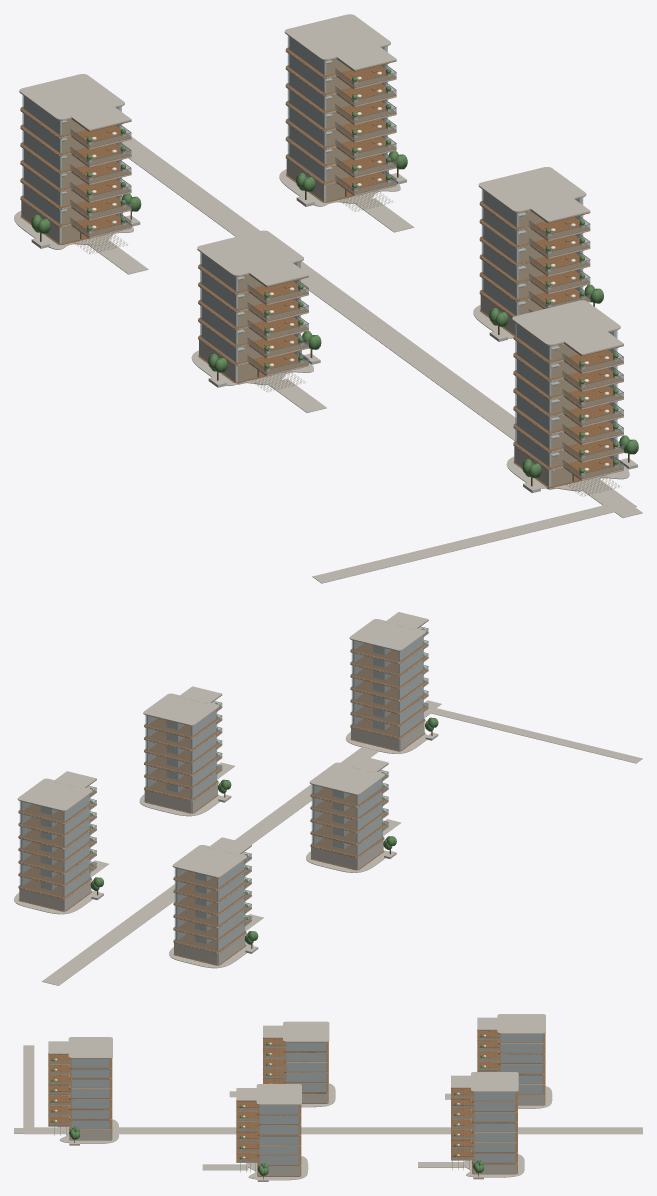
Rendered from residences.glb.
3 renders of one model, top to bottom at view 1: azimuth 30°, elevation 25°; view 2: azimuth 150°, elevation 25°; view 3: azimuth 270°, elevation 25°, orthographic. The views are drawn at different scales.
Visible parts, largest first — view 1: limestone, teak, glass, bronze, leaf, cream; view 2: limestone, glass, teak, leaf, bronze; view 3: limestone, glass, teak, bronze, leaf, cream.
Part boxes in pixels (x1,y1,x2,y2): limestone: (14, 14, 642, 583); teak: (20, 46, 623, 487); glass: (22, 36, 623, 486); bronze: (21, 62, 623, 496); leaf: (31, 68, 638, 477); cream: (91, 71, 609, 471); limestone: (14, 612, 642, 985); glass: (20, 627, 428, 950); teak: (18, 620, 428, 965); leaf: (89, 628, 438, 944); bronze: (18, 626, 428, 952); limestone: (14, 1014, 642, 1181); glass: (49, 1034, 543, 1164); teak: (48, 1030, 545, 1176); bronze: (48, 1031, 544, 1172); leaf: (51, 1034, 484, 1175); cream: (54, 1030, 486, 1158).
Size of the model in its own units: 121 by 34.4 by 234.
